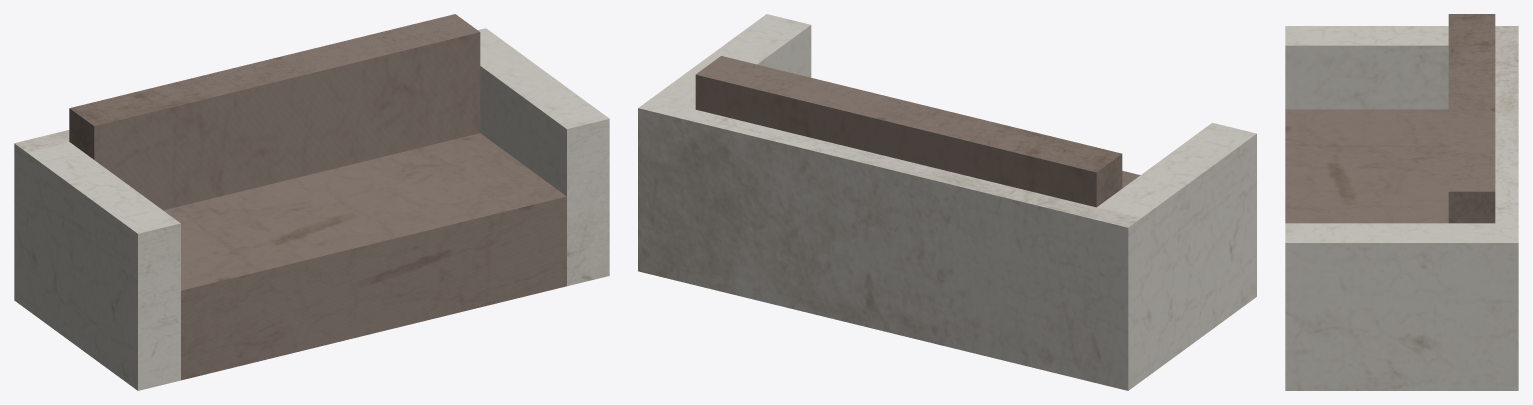
The model's file is sofa.fbx.
3 views of the same model, side by side, from view 1: azimuth 30°, elevation 25°; view 2: azimuth 150°, elevation 25°; view 3: azimuth 270°, elevation 25° (orthographic). The views are drawn at different scales.
Parts seen in each view (by area): view 1: sofa.001; view 2: sofa.001; view 3: sofa.001.
Part boxes in pixels (box(x1,y1,x2,y2)): sofa.001: box(14, 14, 609, 390); sofa.001: box(638, 14, 1256, 390); sofa.001: box(1285, 14, 1518, 390).
Bounding box in the file's own units: 2.44 × 0.9422 × 1.11.
Materials: 1 (1 with a texture image).
